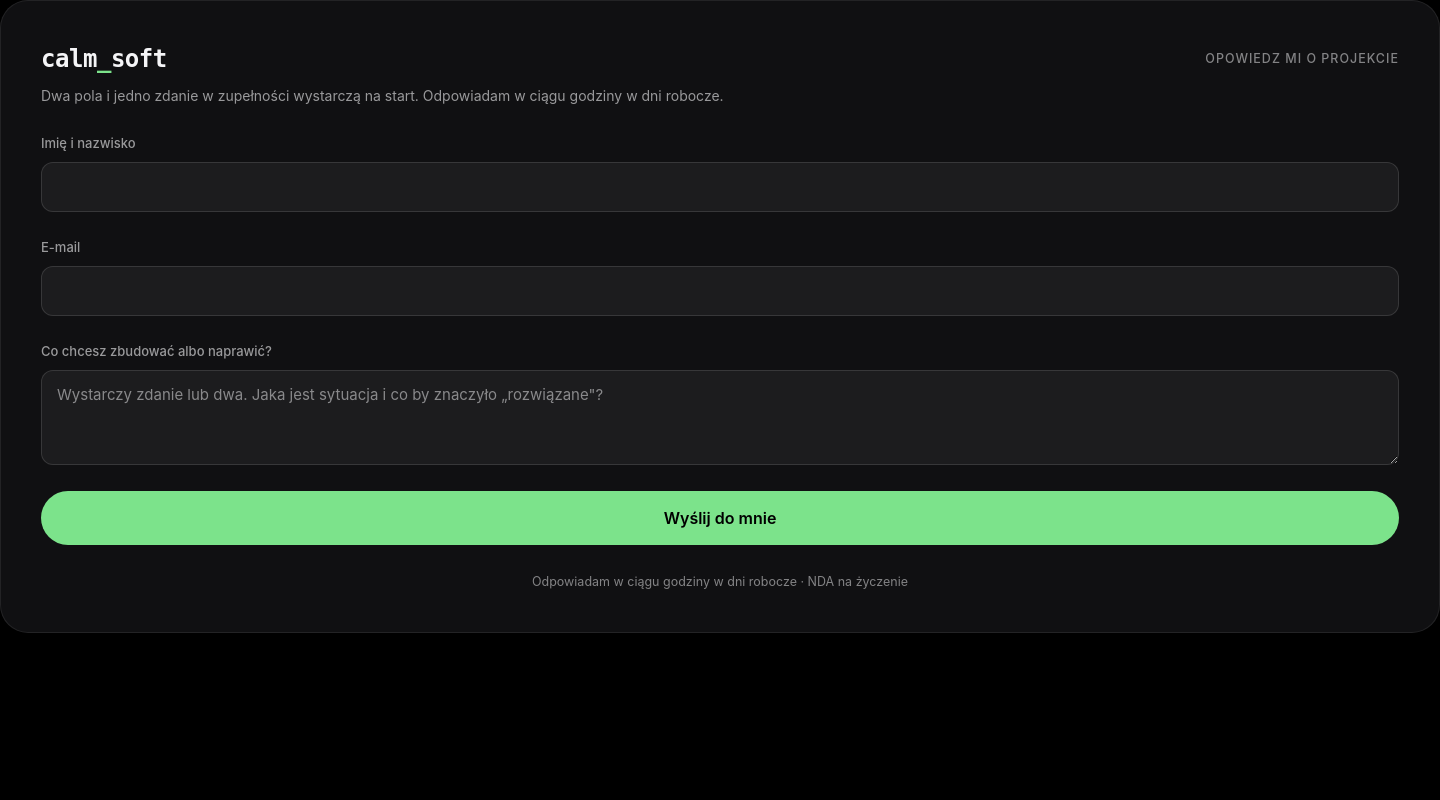
ContactForm step 1 (SPEC §8, §14.2) › shows the success panel on a resolved submission and hides the step-1 form
Step 1. Type "Anna Nowak" into the field labelled "Imię i nazwisko" → {"x": 720, "y": 187}, box 41,162 -> 1399,212
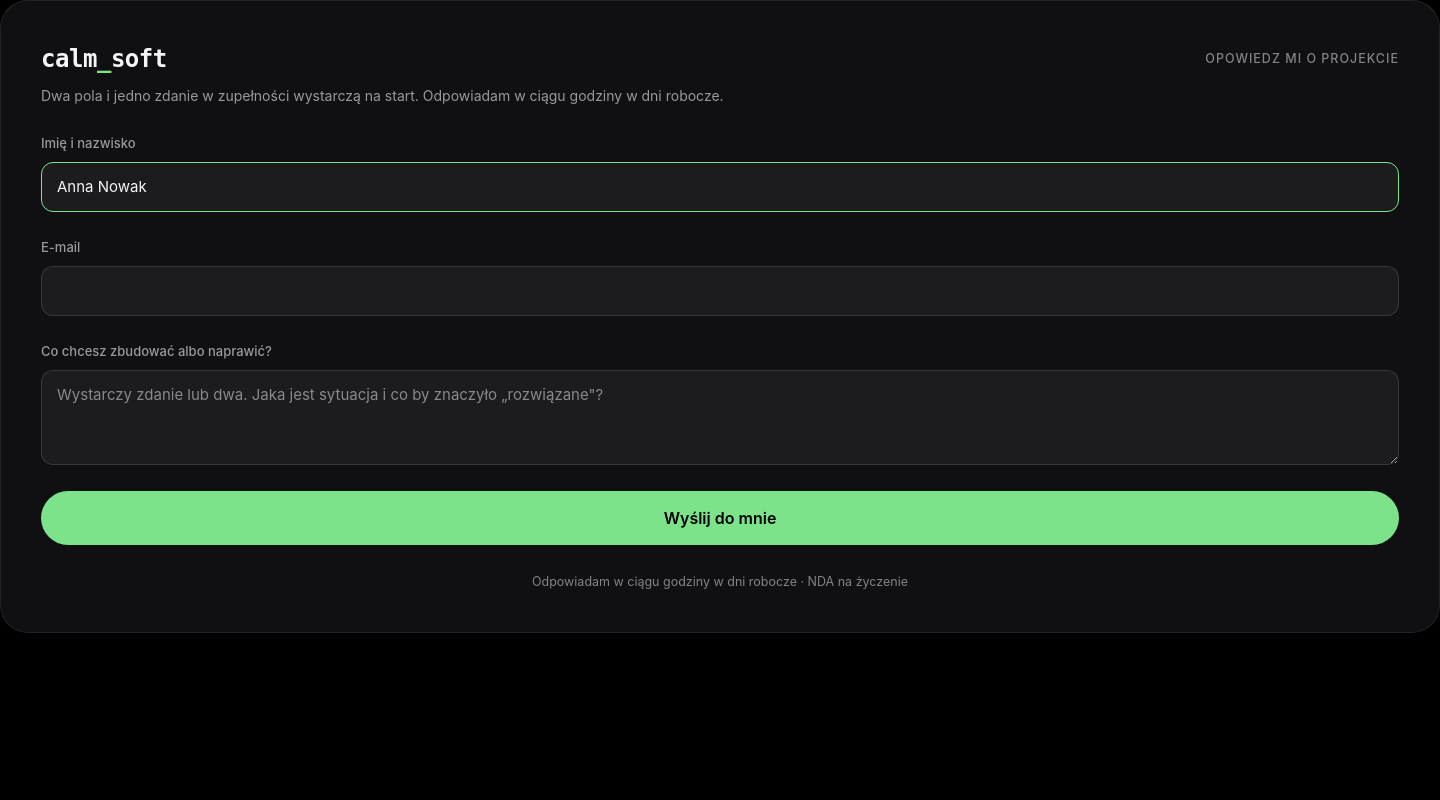
Step 2. Type "anna@example.com" into the field labelled "E-mail" → {"x": 720, "y": 291}, box 41,266 -> 1399,316
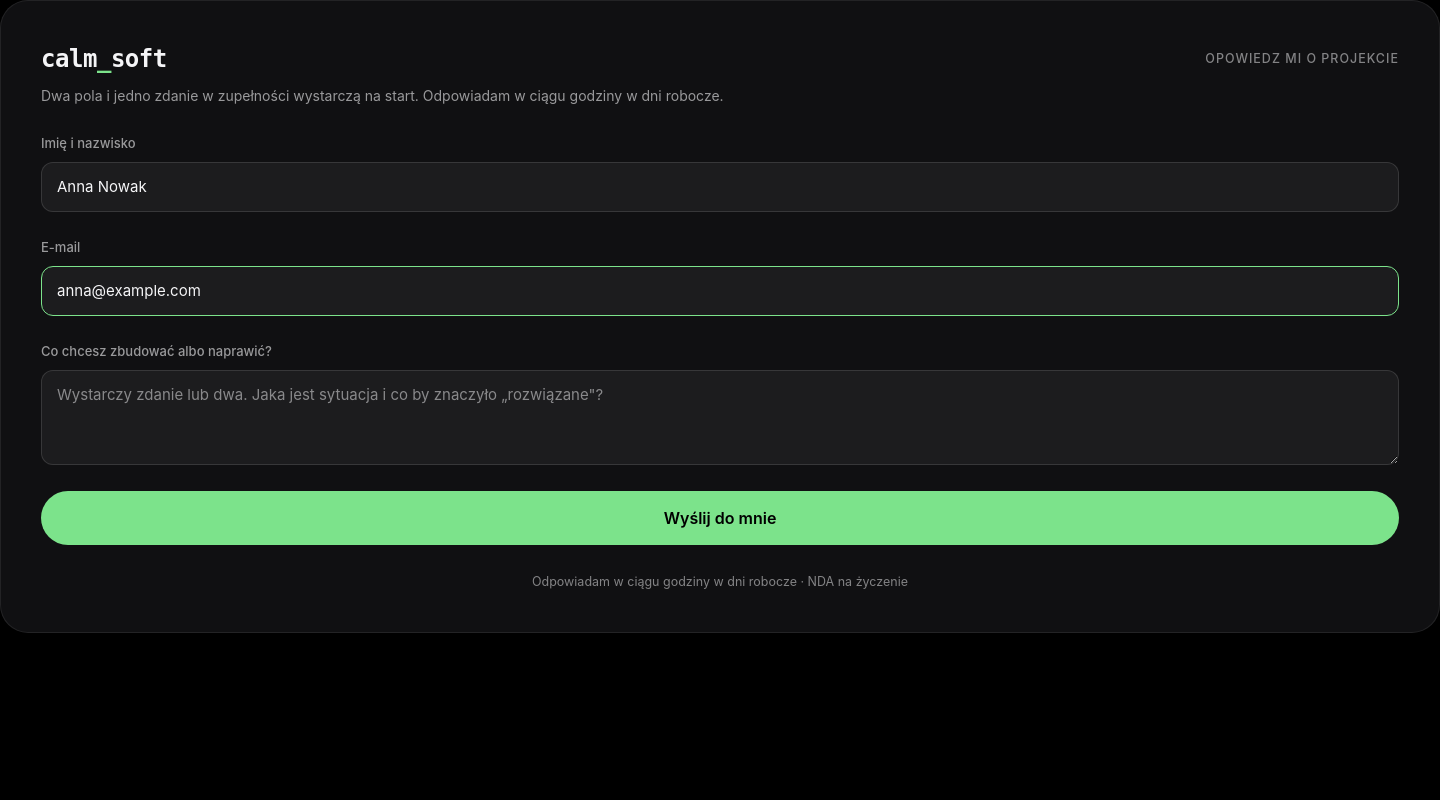
Step 3. Type "We need a new platform." into the text box labelled "Co chcesz zbudować albo naprawić?" → {"x": 720, "y": 417}, box 41,370 -> 1399,465
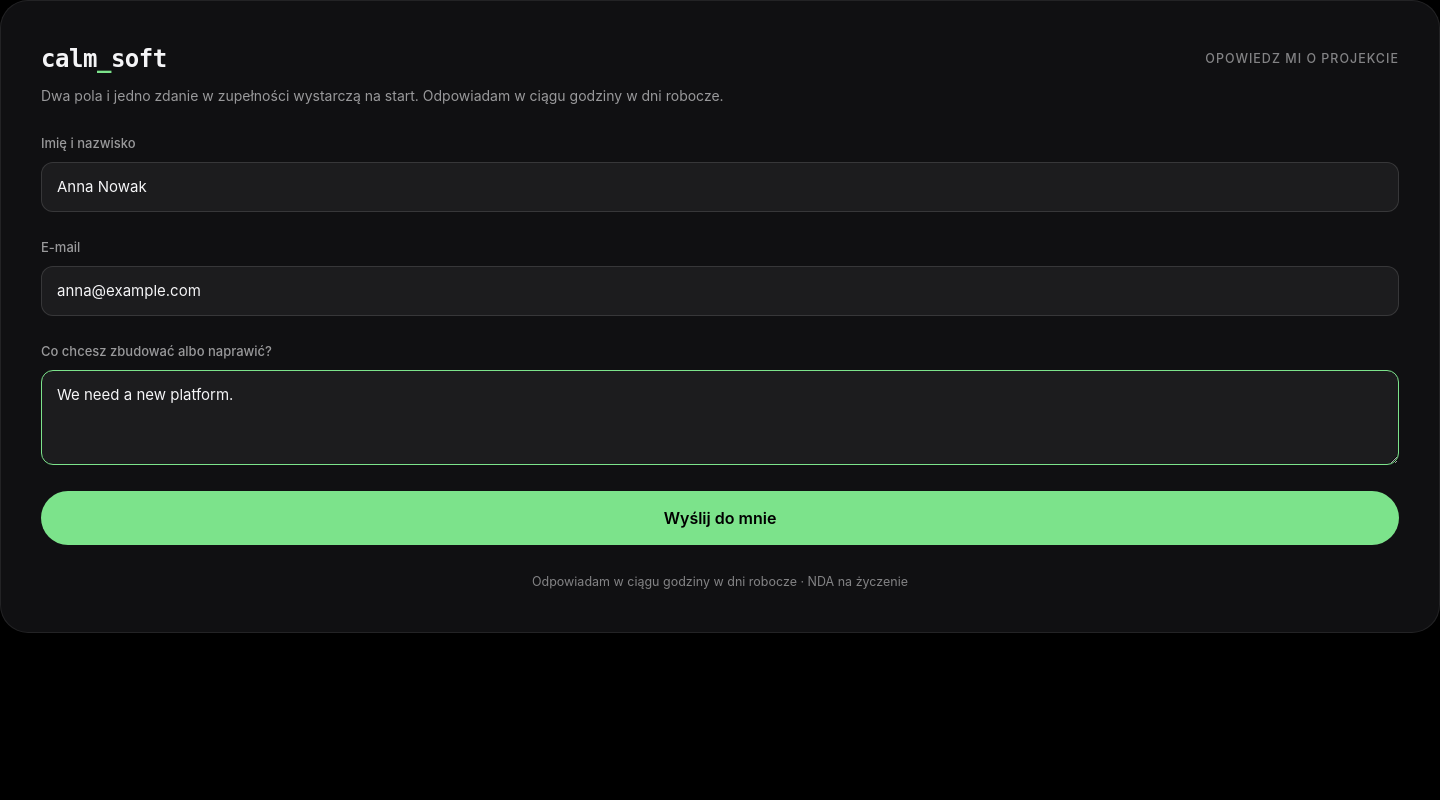
Step 4. Click the button "Wyślij do mnie" → {"x": 720, "y": 518}, box 41,491 -> 1399,545
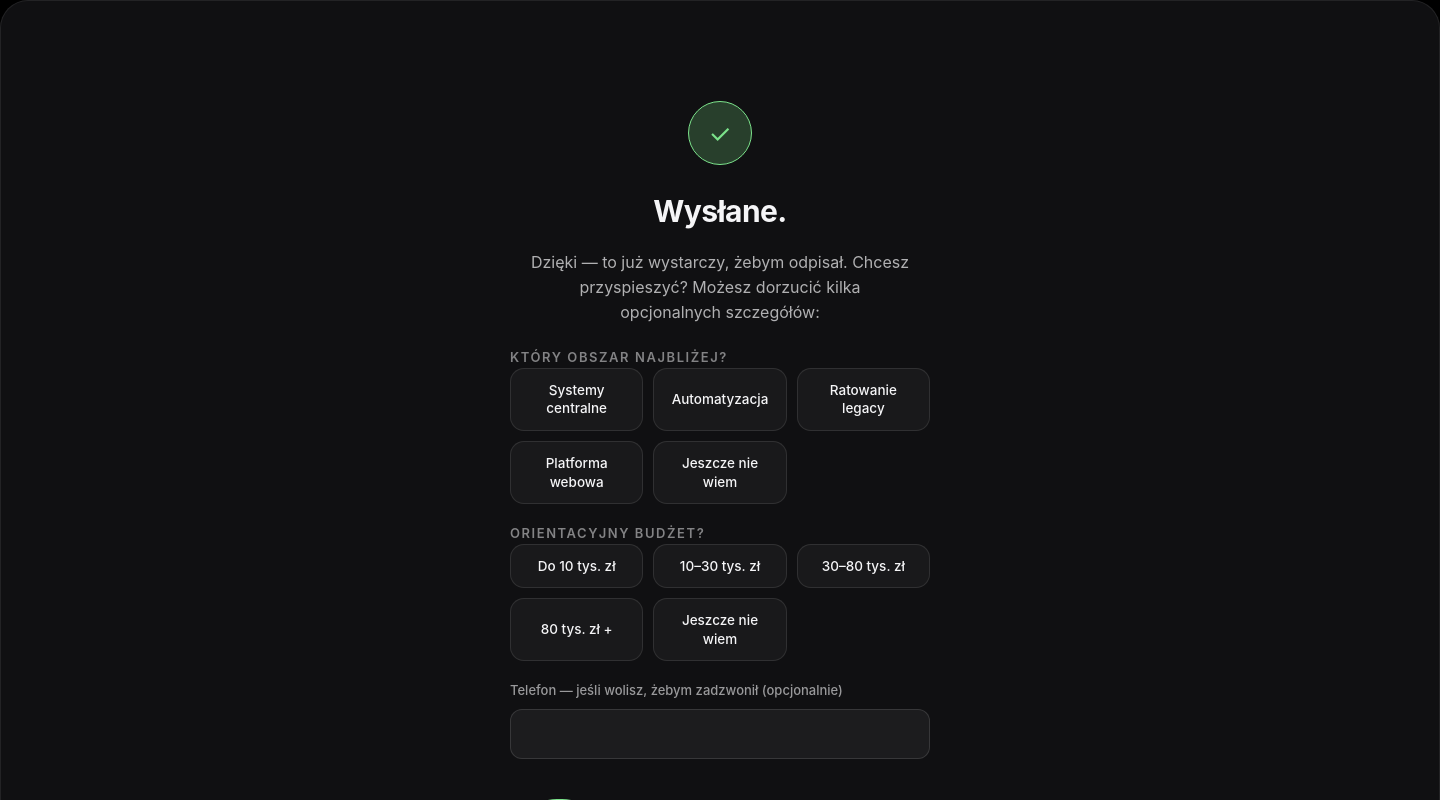
Result: the heading "Wysłane." is shown at 653,189 -> 787,234
Result: the text "Dzięki — to już wystarczy, żebym odpisał. Chcesz przyspieszyć? Możesz dorzucić kilka opcjonalnych szczegółów:" is shown at 531,252 -> 909,322
Result: the button "Wyślij do mnie" is gone
